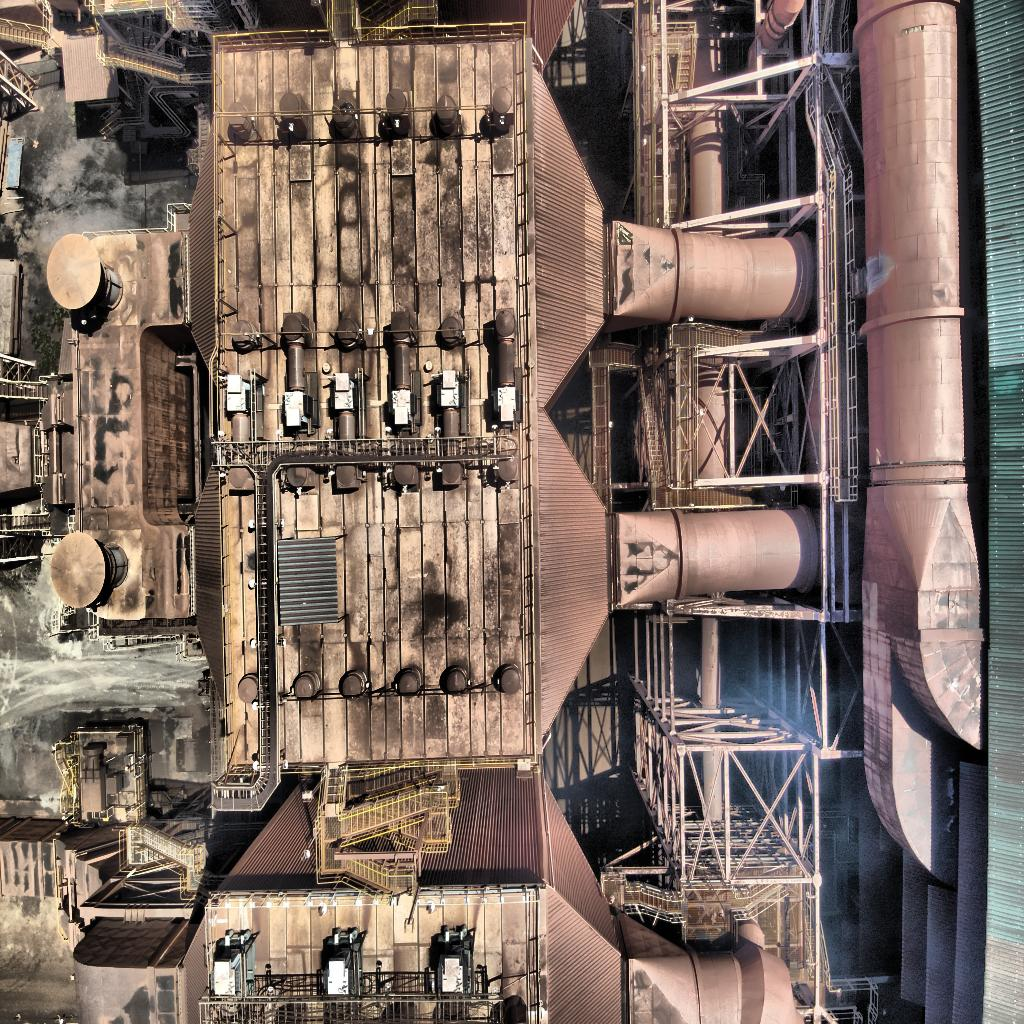Failures: (870, 448, 908, 471), (900, 21, 940, 39), (617, 221, 634, 247)
